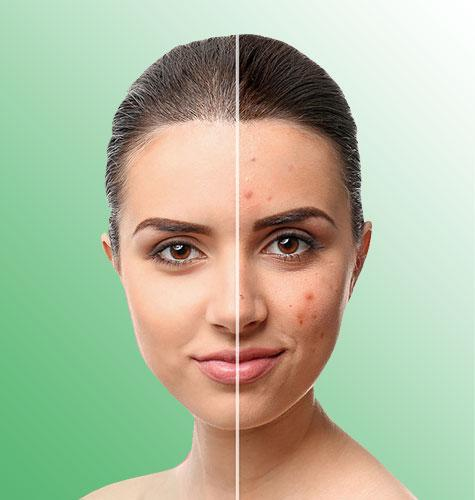Acne: (276, 272, 335, 377), (242, 148, 284, 214)
